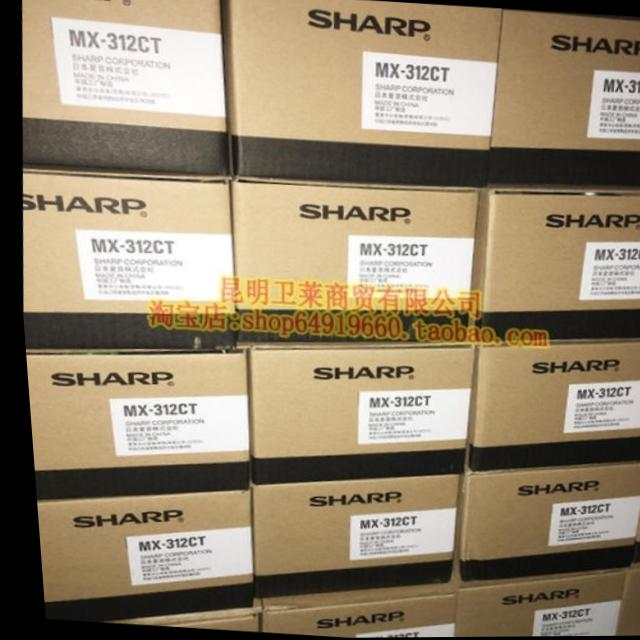box: (222, 0, 503, 193), (225, 183, 473, 348), (20, 0, 230, 180), (18, 172, 226, 352), (21, 352, 244, 504), (245, 350, 470, 487), (483, 10, 640, 195), (244, 473, 454, 610), (29, 493, 245, 623), (466, 190, 640, 349), (446, 462, 640, 589), (458, 345, 640, 472), (443, 573, 620, 638), (247, 594, 445, 638), (124, 609, 247, 630), (620, 472, 640, 572), (610, 571, 640, 637)
